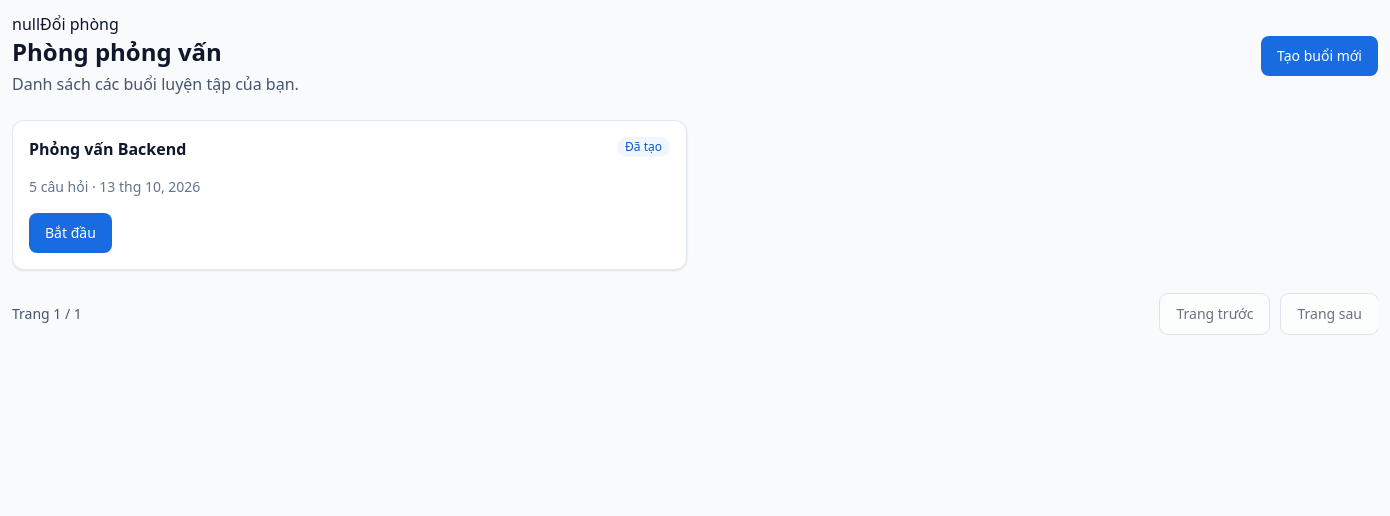
Test: list HTTP 409 reloads and keeps Start locked after failed synchronization until retry succeeds
The width and height of the screenshot is (1390, 516).
Click the button "Bắt đầu" at (70, 233), box [29,213,112,253]
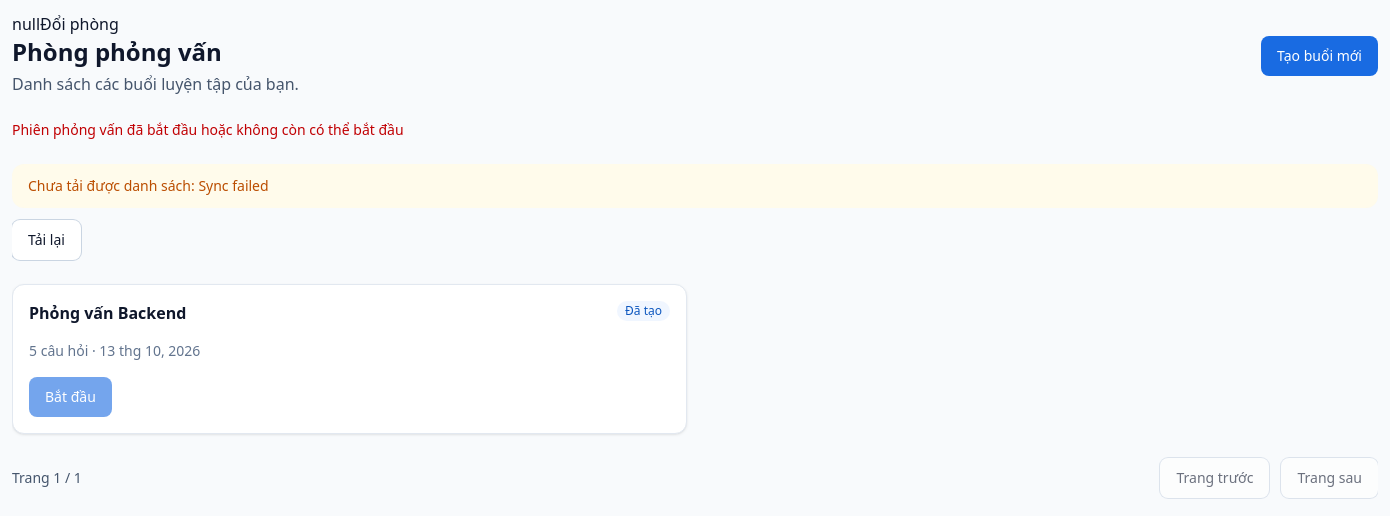
Result: the text "Phiên phỏng vấn đã bắt đầu hoặc không còn có thể bắt đầu" is shown at [12,120,404,139]
Result: the button "Bắt đầu" is disabled at [29,377,112,417]
Click the button "Tải lại" at (46, 240), box [12,220,81,260]
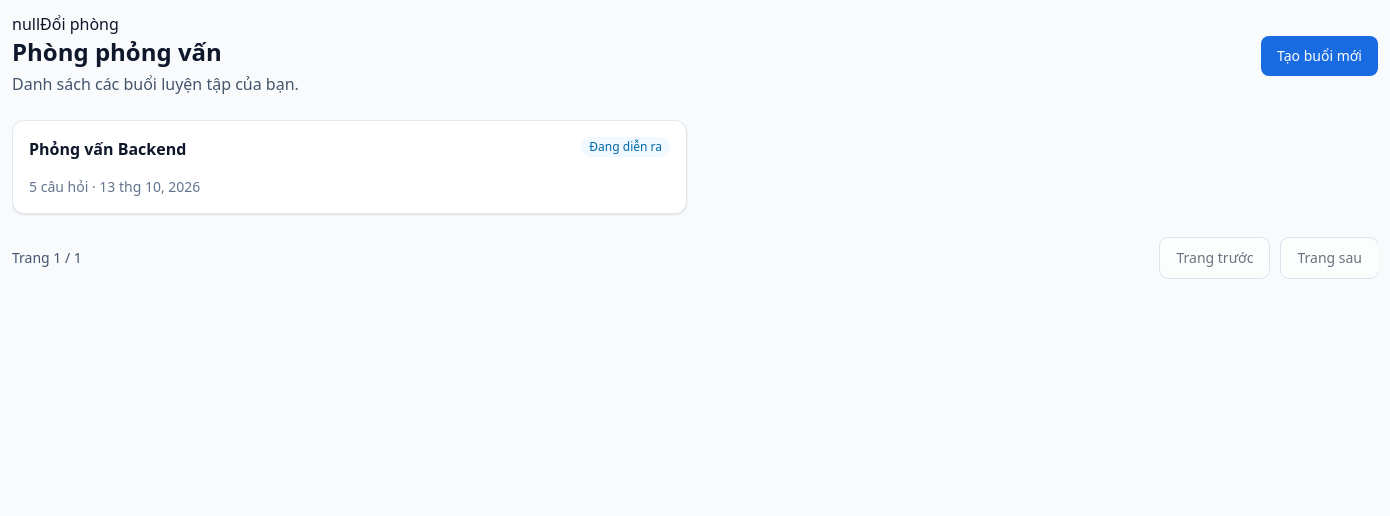
Result: the text "Đang diễn ra" is shown at [581,137,670,157]
